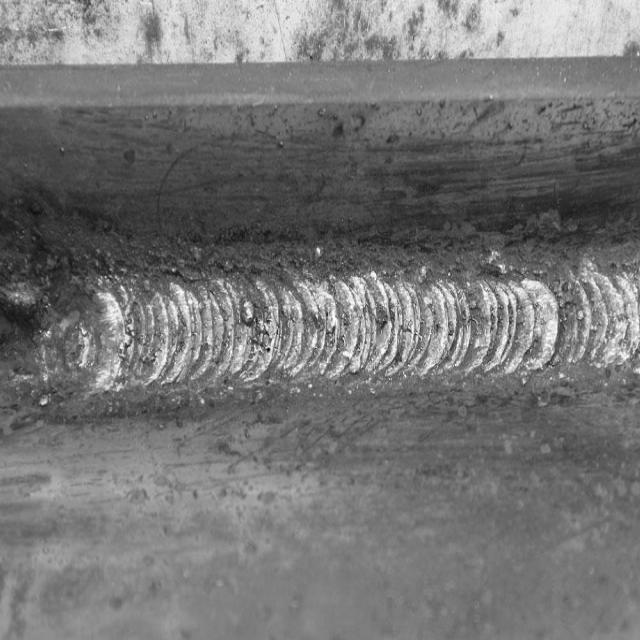Good Weld: (122, 272, 628, 372)
